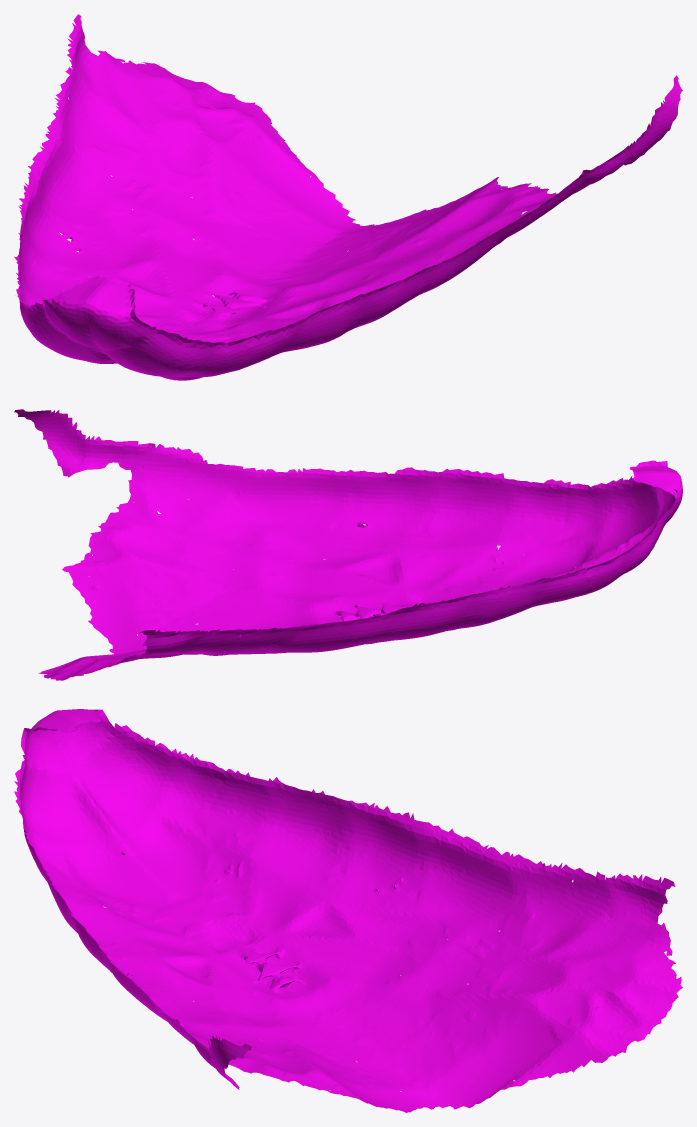
The model's file is zone2-serpent-purple.gltf.
3 renders of one model, top to bottom at view 1: azimuth 30°, elevation 25°; view 2: azimuth 150°, elevation 25°; view 3: azimuth 270°, elevation 25°, orthographic. The views are drawn at different scales.
Parts seen in each view (by area): view 1: imagetostl_mesh; view 2: imagetostl_mesh; view 3: imagetostl_mesh.
Boxes of the visible parts, x1=… form: imagetostl_mesh: x1=14, y1=14, x2=682, y2=380; imagetostl_mesh: x1=14, y1=409, x2=682, y2=680; imagetostl_mesh: x1=14, y1=709, x2=682, y2=1112.
Bounding box in the file's own units: 13.55 × 3.47 × 11.58.
